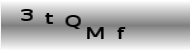3: (19, 8, 34, 22)
M: (85, 25, 105, 40)
Q: (63, 13, 83, 29)
f: (115, 26, 127, 40)
t: (44, 11, 55, 25)
